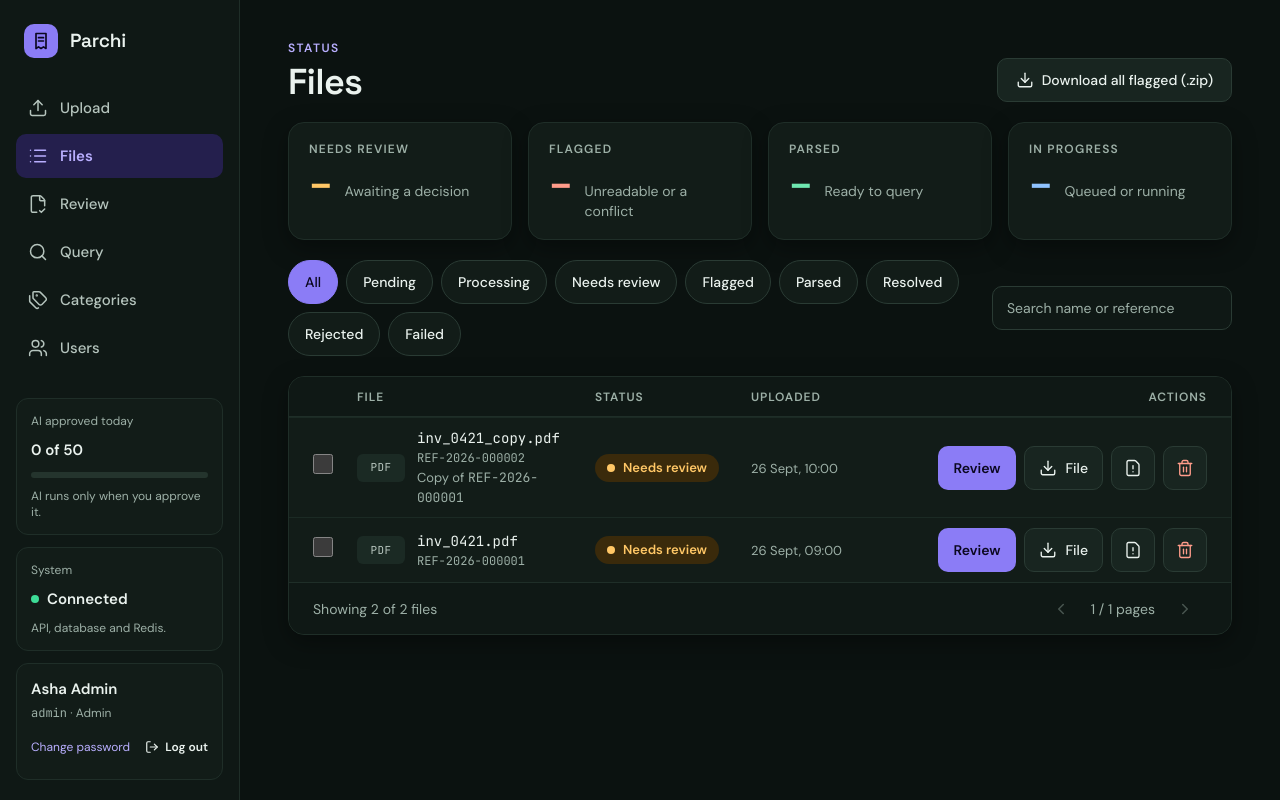
it: batch AI approval › selects files needing review and opens one approval for them
Click the checkbox named "Select inv_0421_copy.pdf" at (323, 464), box [313,454,333,474]
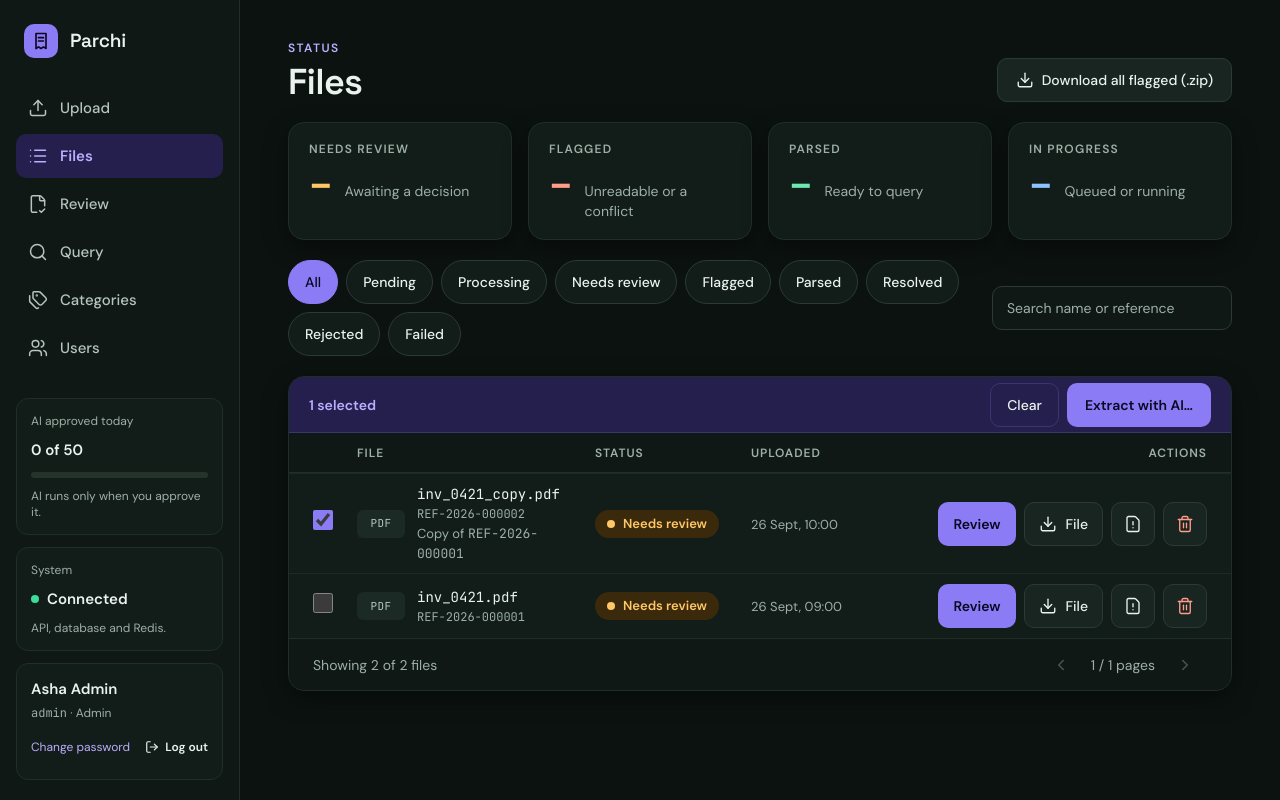
Click the checkbox named "Select inv_0421.pdf" at (323, 602), box [313,592,333,612]
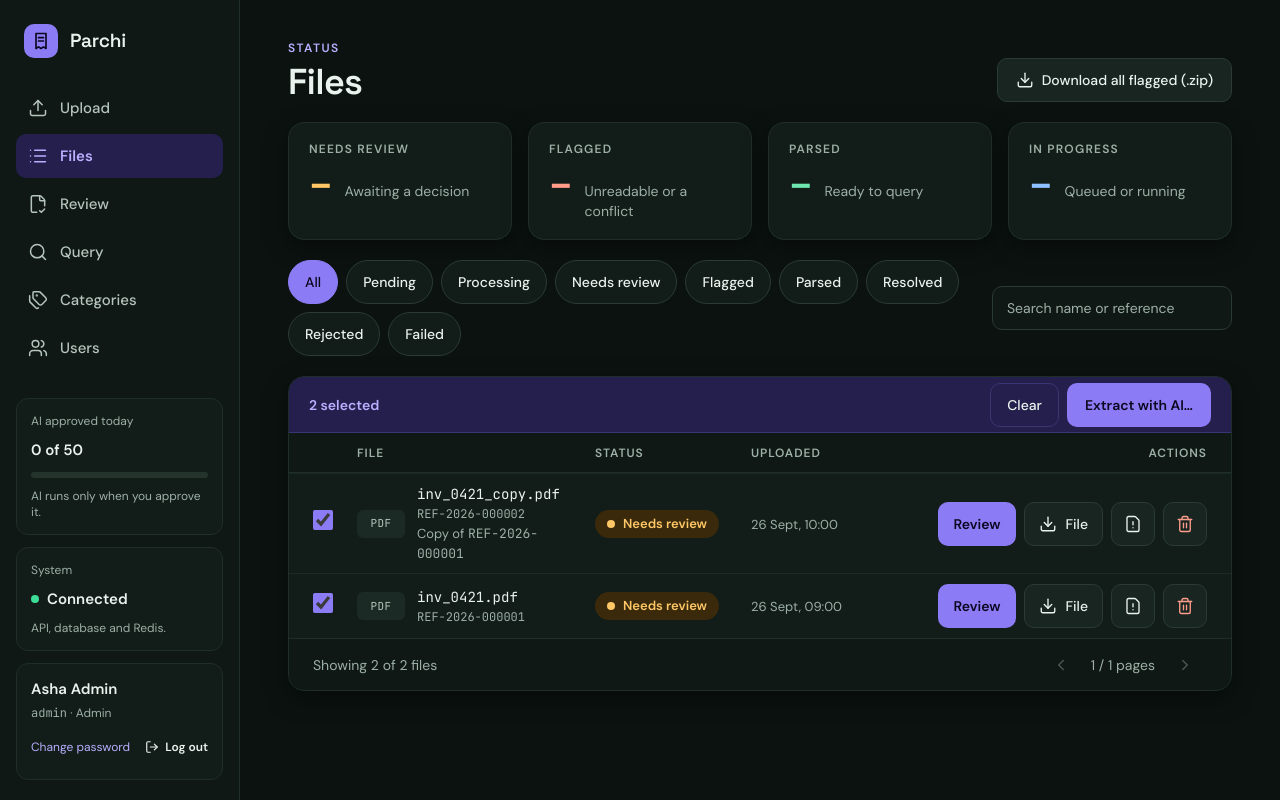
Check: the text "2 selected" is shown, box [309,394,379,414]
Click the button "Extract with AI…" at (1139, 404), box [1067,382,1211,426]
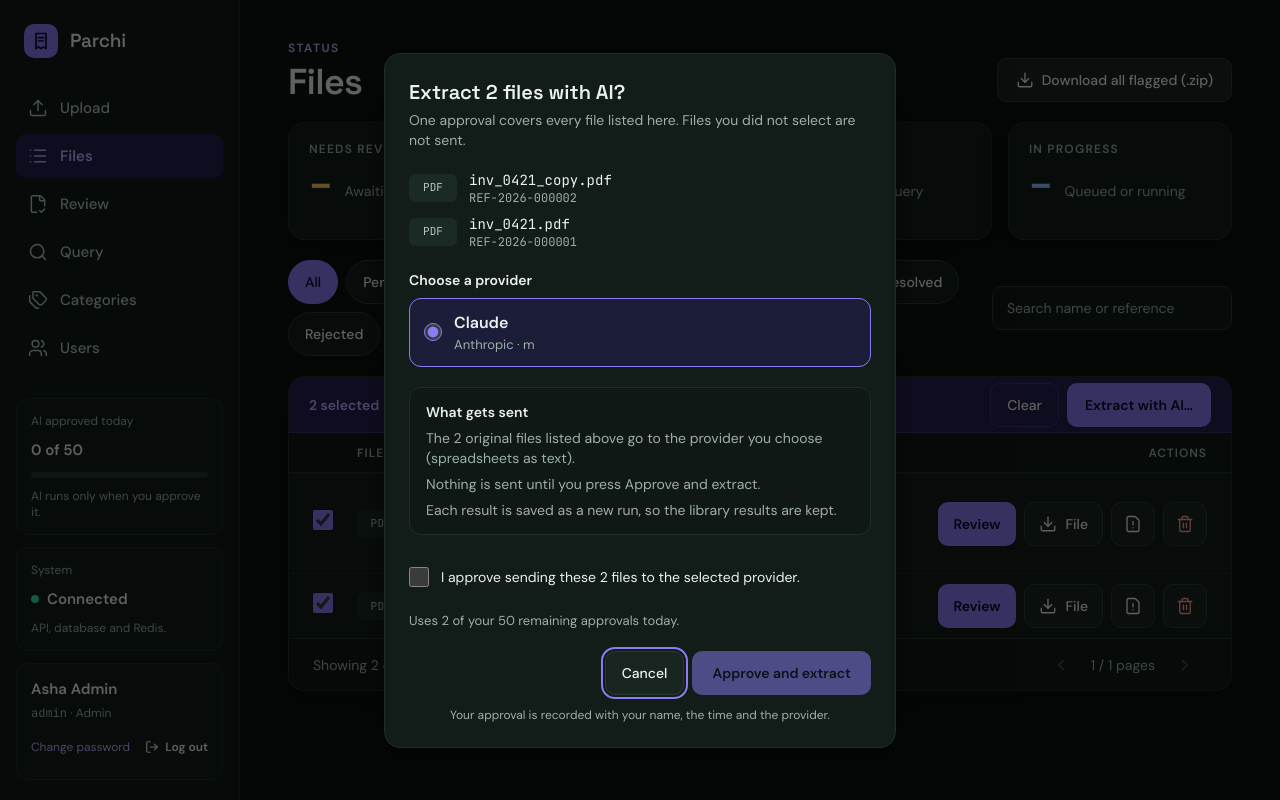
Check: the heading "Extract 2 files with AI?" is shown, box [409,78,625,104]
Click the button "Cancel" at (645, 672), box [605,650,684,694]
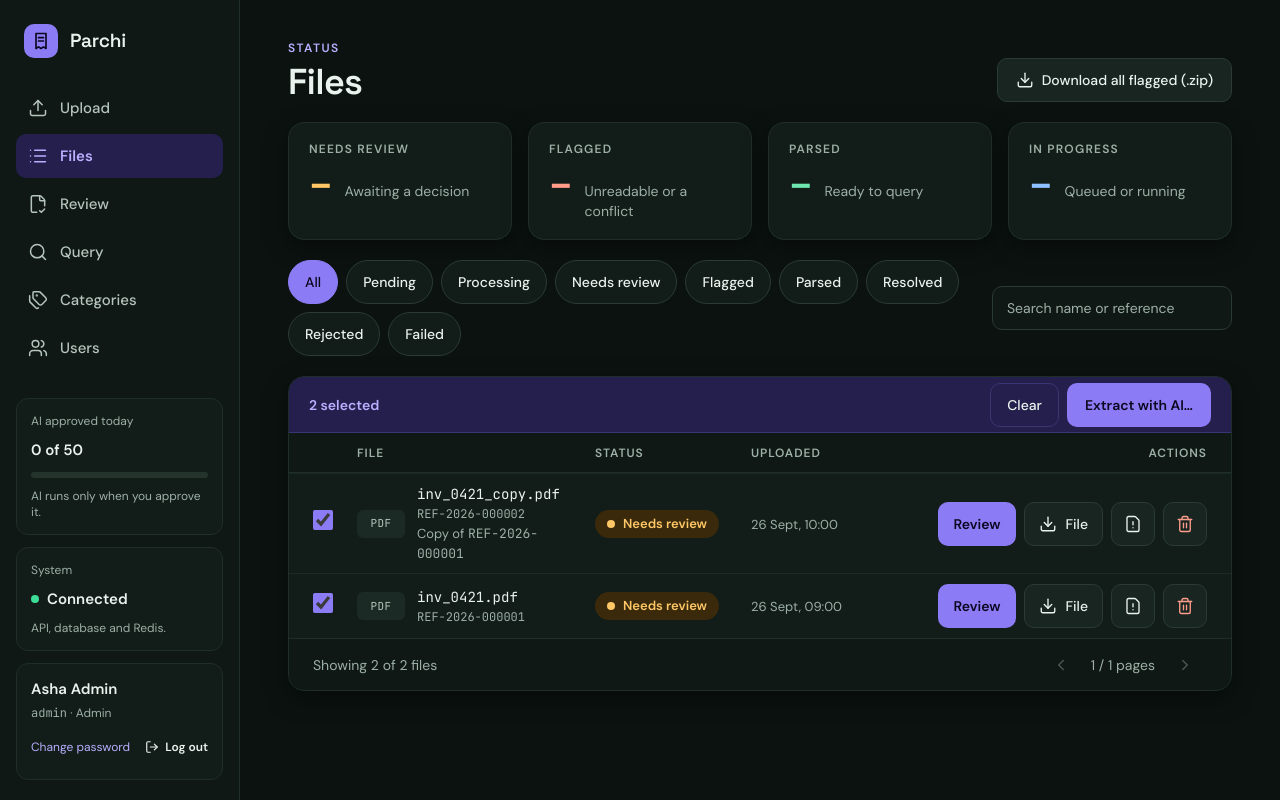
Click the button "Clear" at (1025, 404), box [990,382,1059,426]
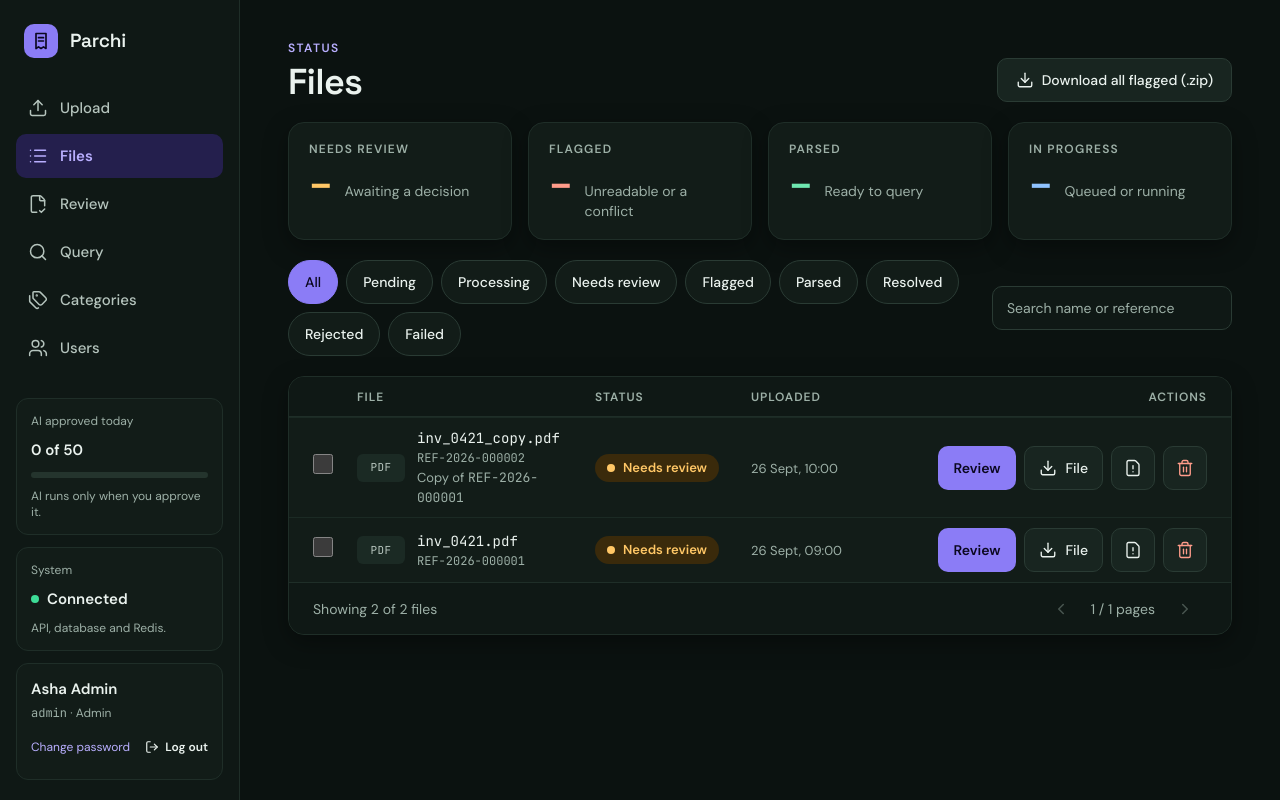
Check: the text "2 selected" is gone
